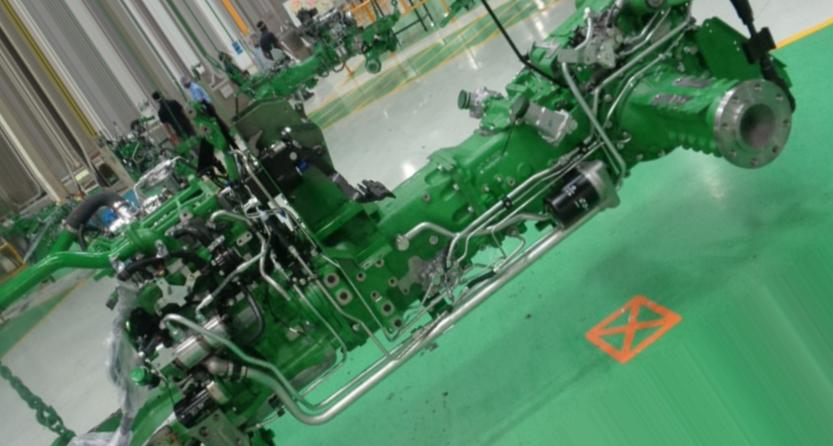engine: (0, 1, 800, 446)
